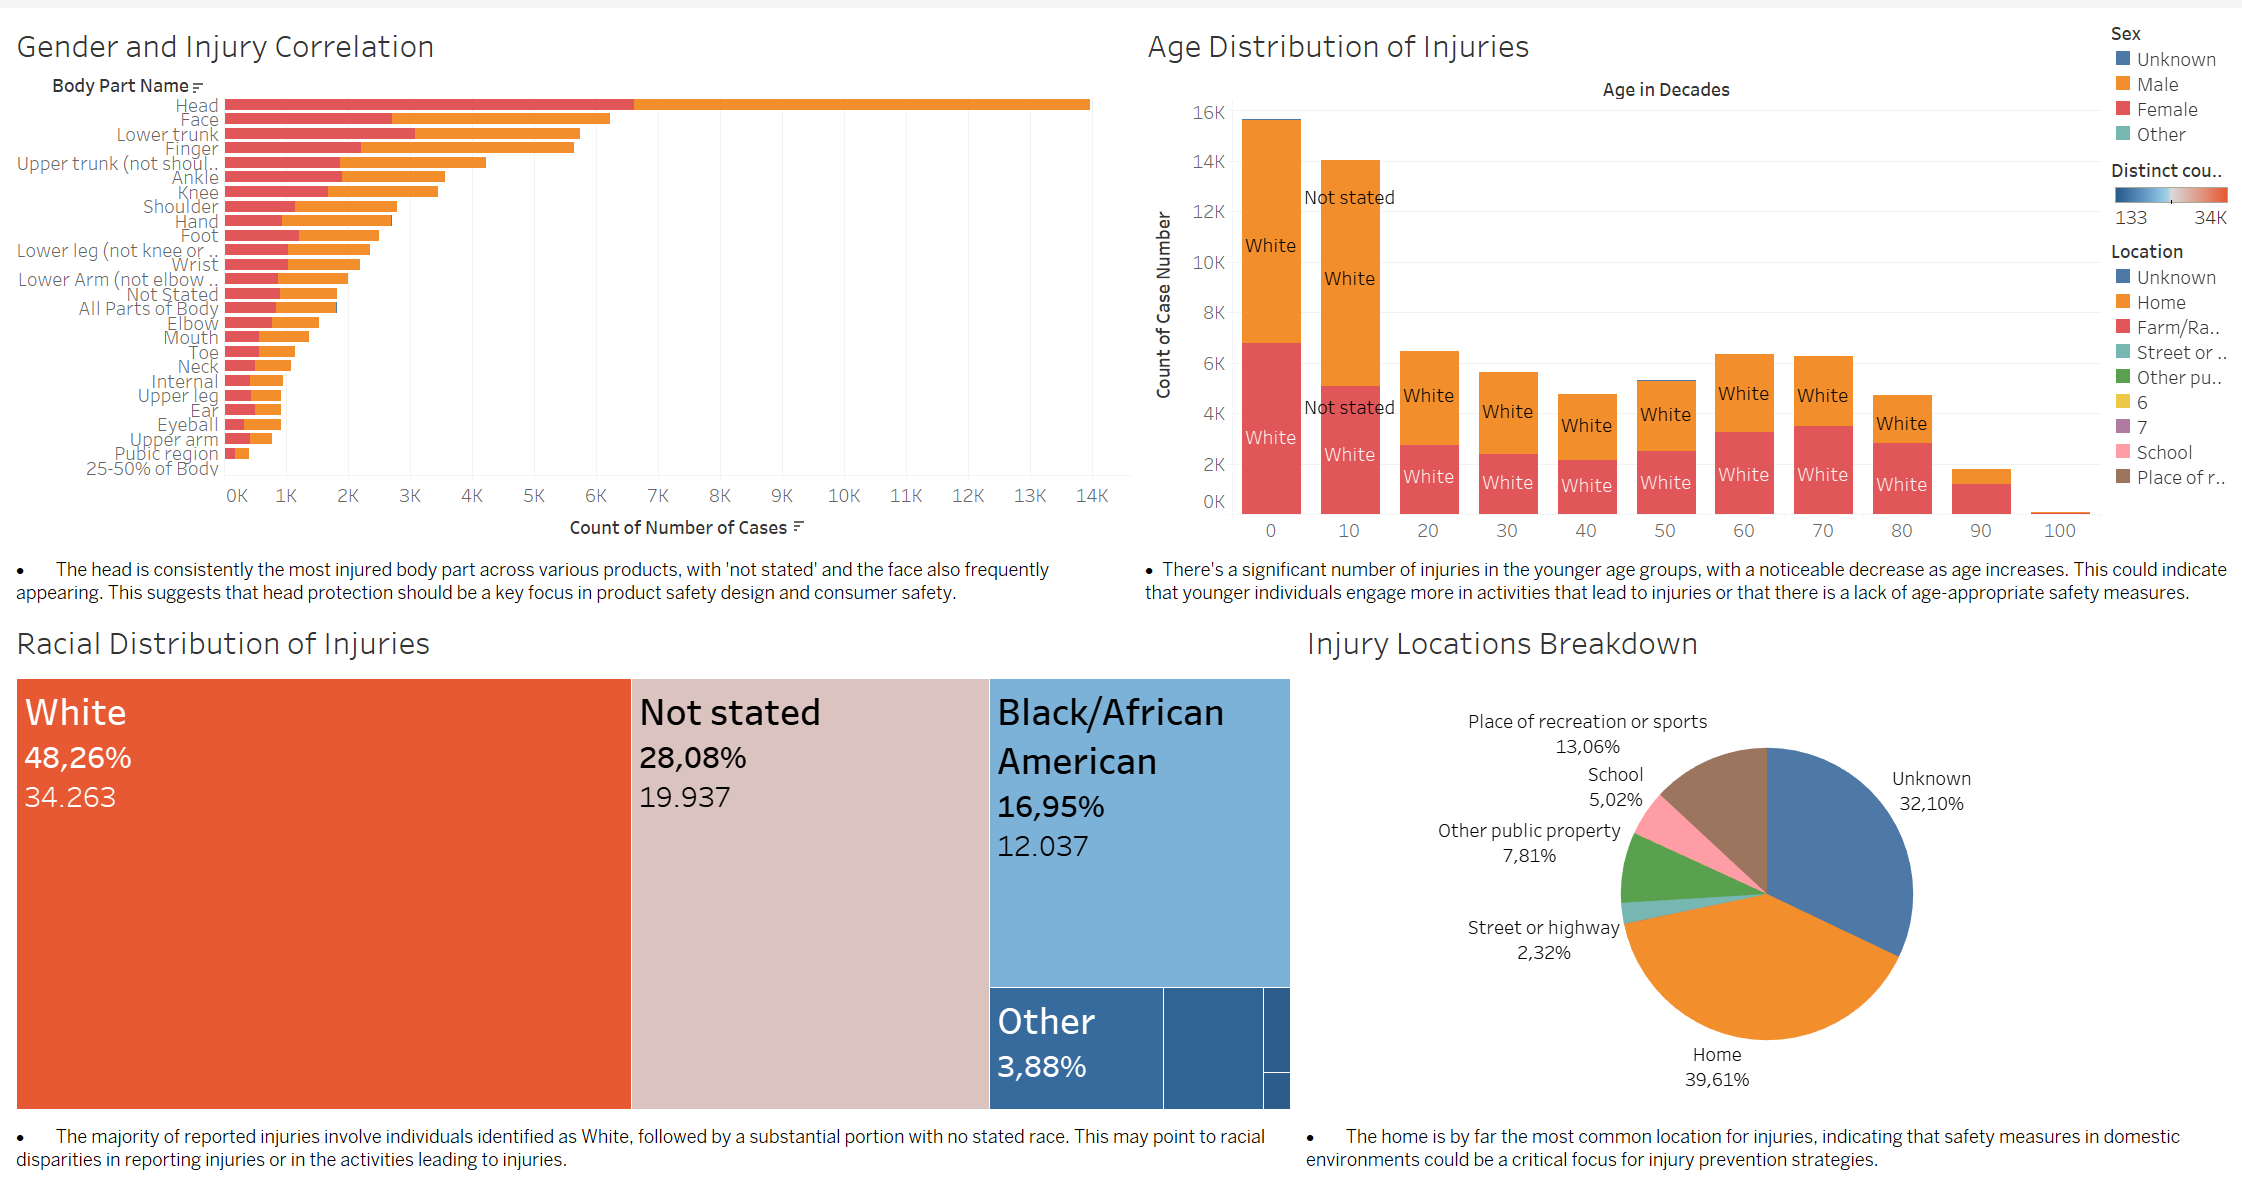

Layout of this report page (visuals, bound fields, positions):
{"tool":"tableau","page":{"name":"Demographic Analysis","canvas":[1000,1000],"units":"permille","ordinal":0},"visuals":[{"type":"worksheet","title":"Gender and Injury Correlation","mark":"Bar","rows":["Calculation_1506454095350820867"],"cols":["CPSC_Case_Number"],"box":[3.6,6.8,503.1,453.3]},{"type":"worksheet","title":"Age Distribution of Injuries","mark":"Bar","rows":["CPSC_Case_Number"],"cols":["Age_ (bin)"],"box":[506.7,6.8,432.3,453.3]},{"type":"legend","title":"Age Distribution of Injuries","param":"[federated.14mdlcr01tpv6x14sv34e1xg9wpt].[none:Sex:ok]","box":[938.9,6.8,57.5,116.3]},{"type":"legend","title":"Racial Distribution of Injuries","param":"[federated.14mdlcr01tpv6x14sv34e1xg9wpt].[ctd:CPSC_Case_Number:qk]","box":[938.9,123.1,57.5,68.8]},{"type":"legend","title":"Injury Locations Breakdown","param":"[federated.14mdlcr01tpv6x14sv34e1xg9wpt].[none:Location:ok]","box":[938.9,191.8,57.5,219.9]},{"type":"text","box":[3.6,460.1,503.1,53.5]},{"type":"text","box":[506.7,460.1,489.8,53.5]},{"type":"worksheet","title":"Racial Distribution of Injuries","mark":"Automatic","box":[3.6,513.6,574.9,428.7]},{"type":"worksheet","title":"Injury Locations Breakdown","mark":"Pie","box":[578.4,513.6,418,428.7]},{"type":"text","box":[3.6,942.3,574.9,50.9]},{"type":"text","box":[578.4,942.3,418,50.9]}]}

Visuals, with their boxes on the dashboard's canvas, which has no fixed pixel size, in thousandths of its width and height (x1, y1, x2, y2). These are canvas units, not pixel positions in the 2242x1183 screenshot, which may show the page scaled, cropped or inside an application window:
"Gender and Injury Correlation" worksheet (Bar marks): detection(4, 7, 507, 460)
"Age Distribution of Injuries" worksheet (Bar marks): detection(507, 7, 939, 460)
"Age Distribution of Injuries" legend: detection(939, 7, 996, 123)
"Racial Distribution of Injuries" legend: detection(939, 123, 996, 192)
"Injury Locations Breakdown" legend: detection(939, 192, 996, 412)
text: detection(4, 460, 507, 514)
text: detection(507, 460, 996, 514)
"Racial Distribution of Injuries" worksheet: detection(4, 514, 578, 942)
"Injury Locations Breakdown" worksheet (Pie marks): detection(578, 514, 996, 942)
text: detection(4, 942, 578, 993)
text: detection(578, 942, 996, 993)
